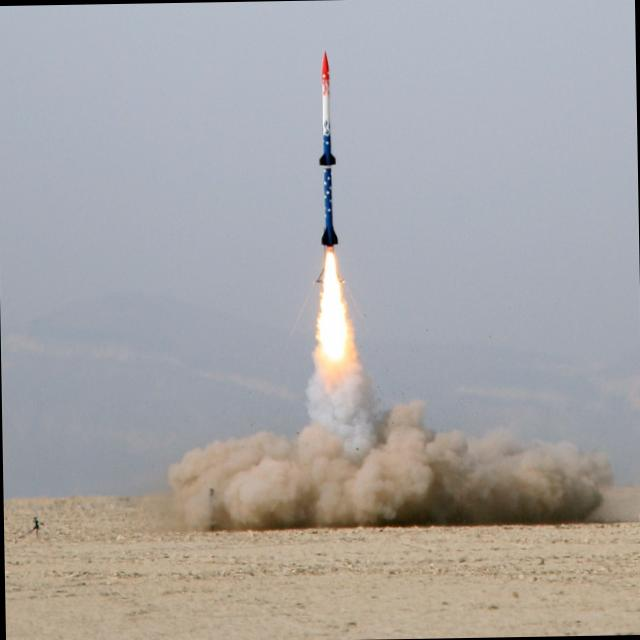rocket: (308, 47, 352, 387)
